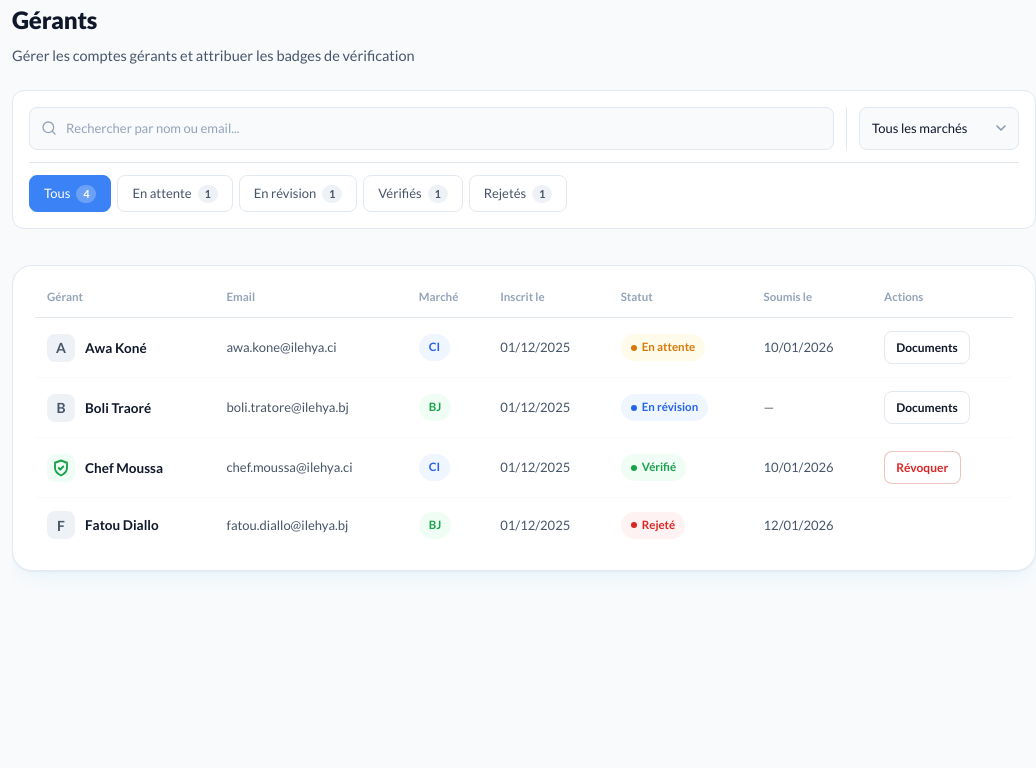
AdminGerantsPage › filtre côté client par nom sans rappeler l’API
Type "AWA" into the field with placeholder "Rechercher par nom ou email..." at {"x": 432, "y": 128}, box [29,106,834,150]
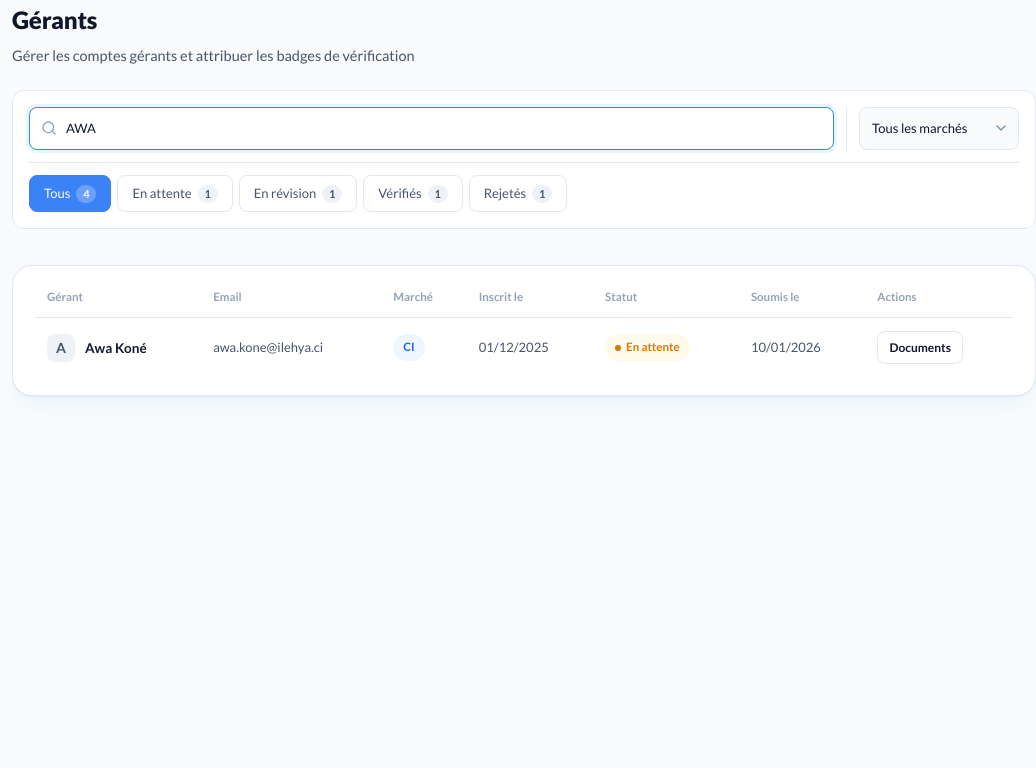
Check: the text "Awa Koné" is shown, box [85,337,147,359]
Check: the text "Boli Traoré" is gone
Check: the number of rows is 2, box [35,288,1013,318]; [35,318,1013,377]
